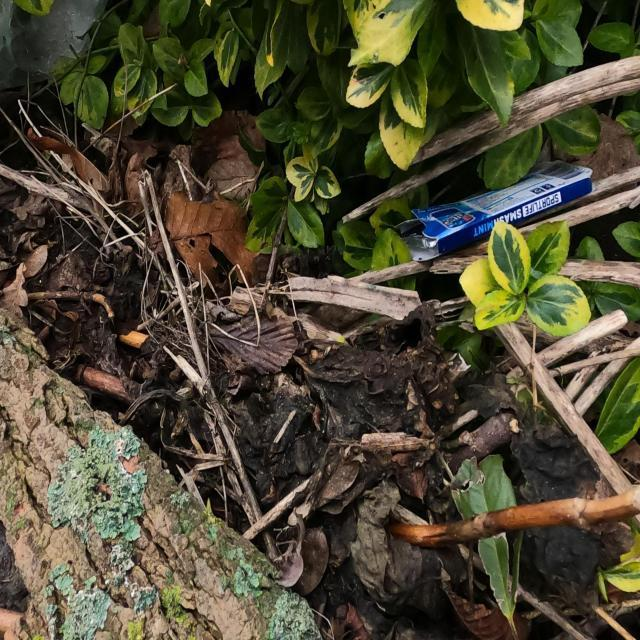Plastic: (393, 158, 594, 264)
